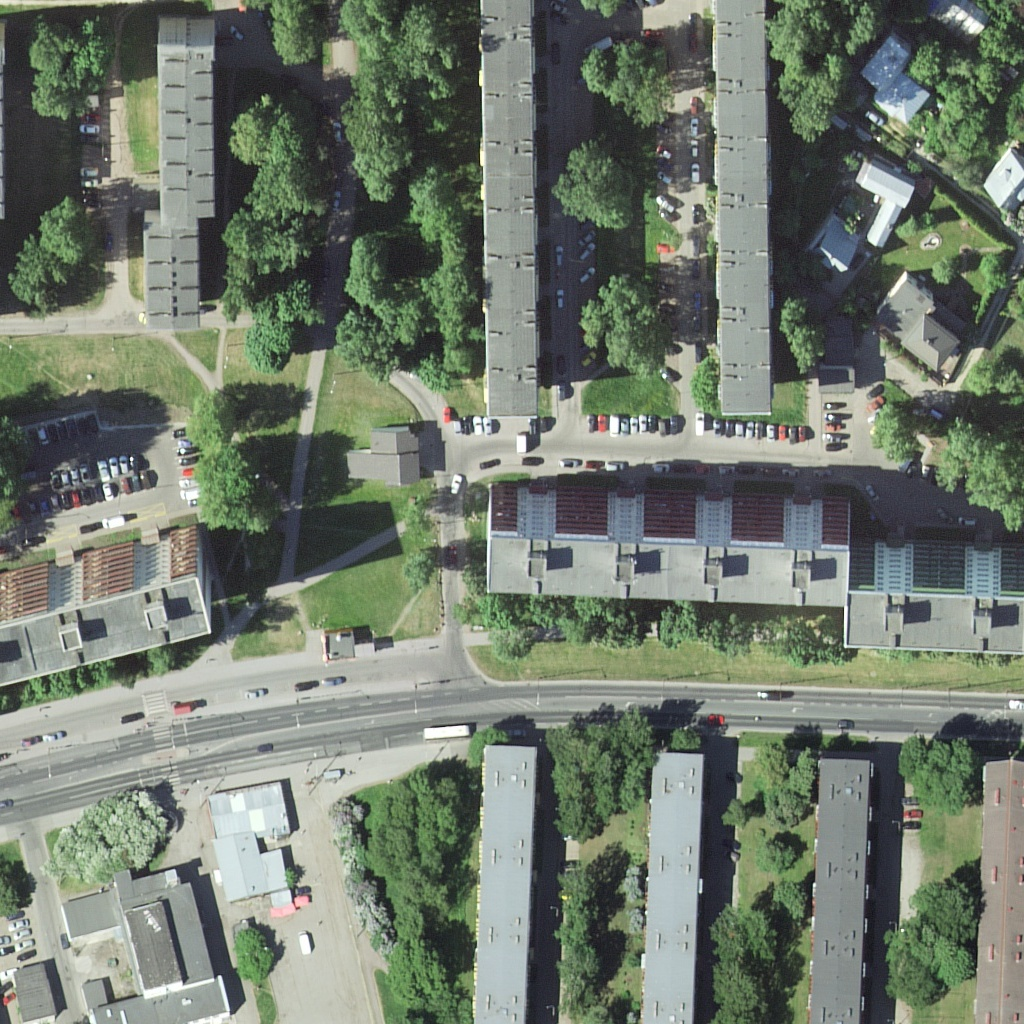building: (477, 491, 852, 606), (1, 519, 223, 687), (476, 1, 543, 419), (713, 1, 778, 423), (842, 548, 1024, 655), (122, 866, 245, 1024), (805, 755, 875, 1024), (475, 745, 542, 1022), (642, 744, 705, 1024), (154, 19, 218, 223), (977, 761, 1021, 1024), (207, 782, 302, 897), (141, 217, 203, 339), (852, 150, 915, 258), (889, 278, 957, 378), (865, 30, 928, 129), (810, 212, 858, 286), (988, 135, 1024, 209)
